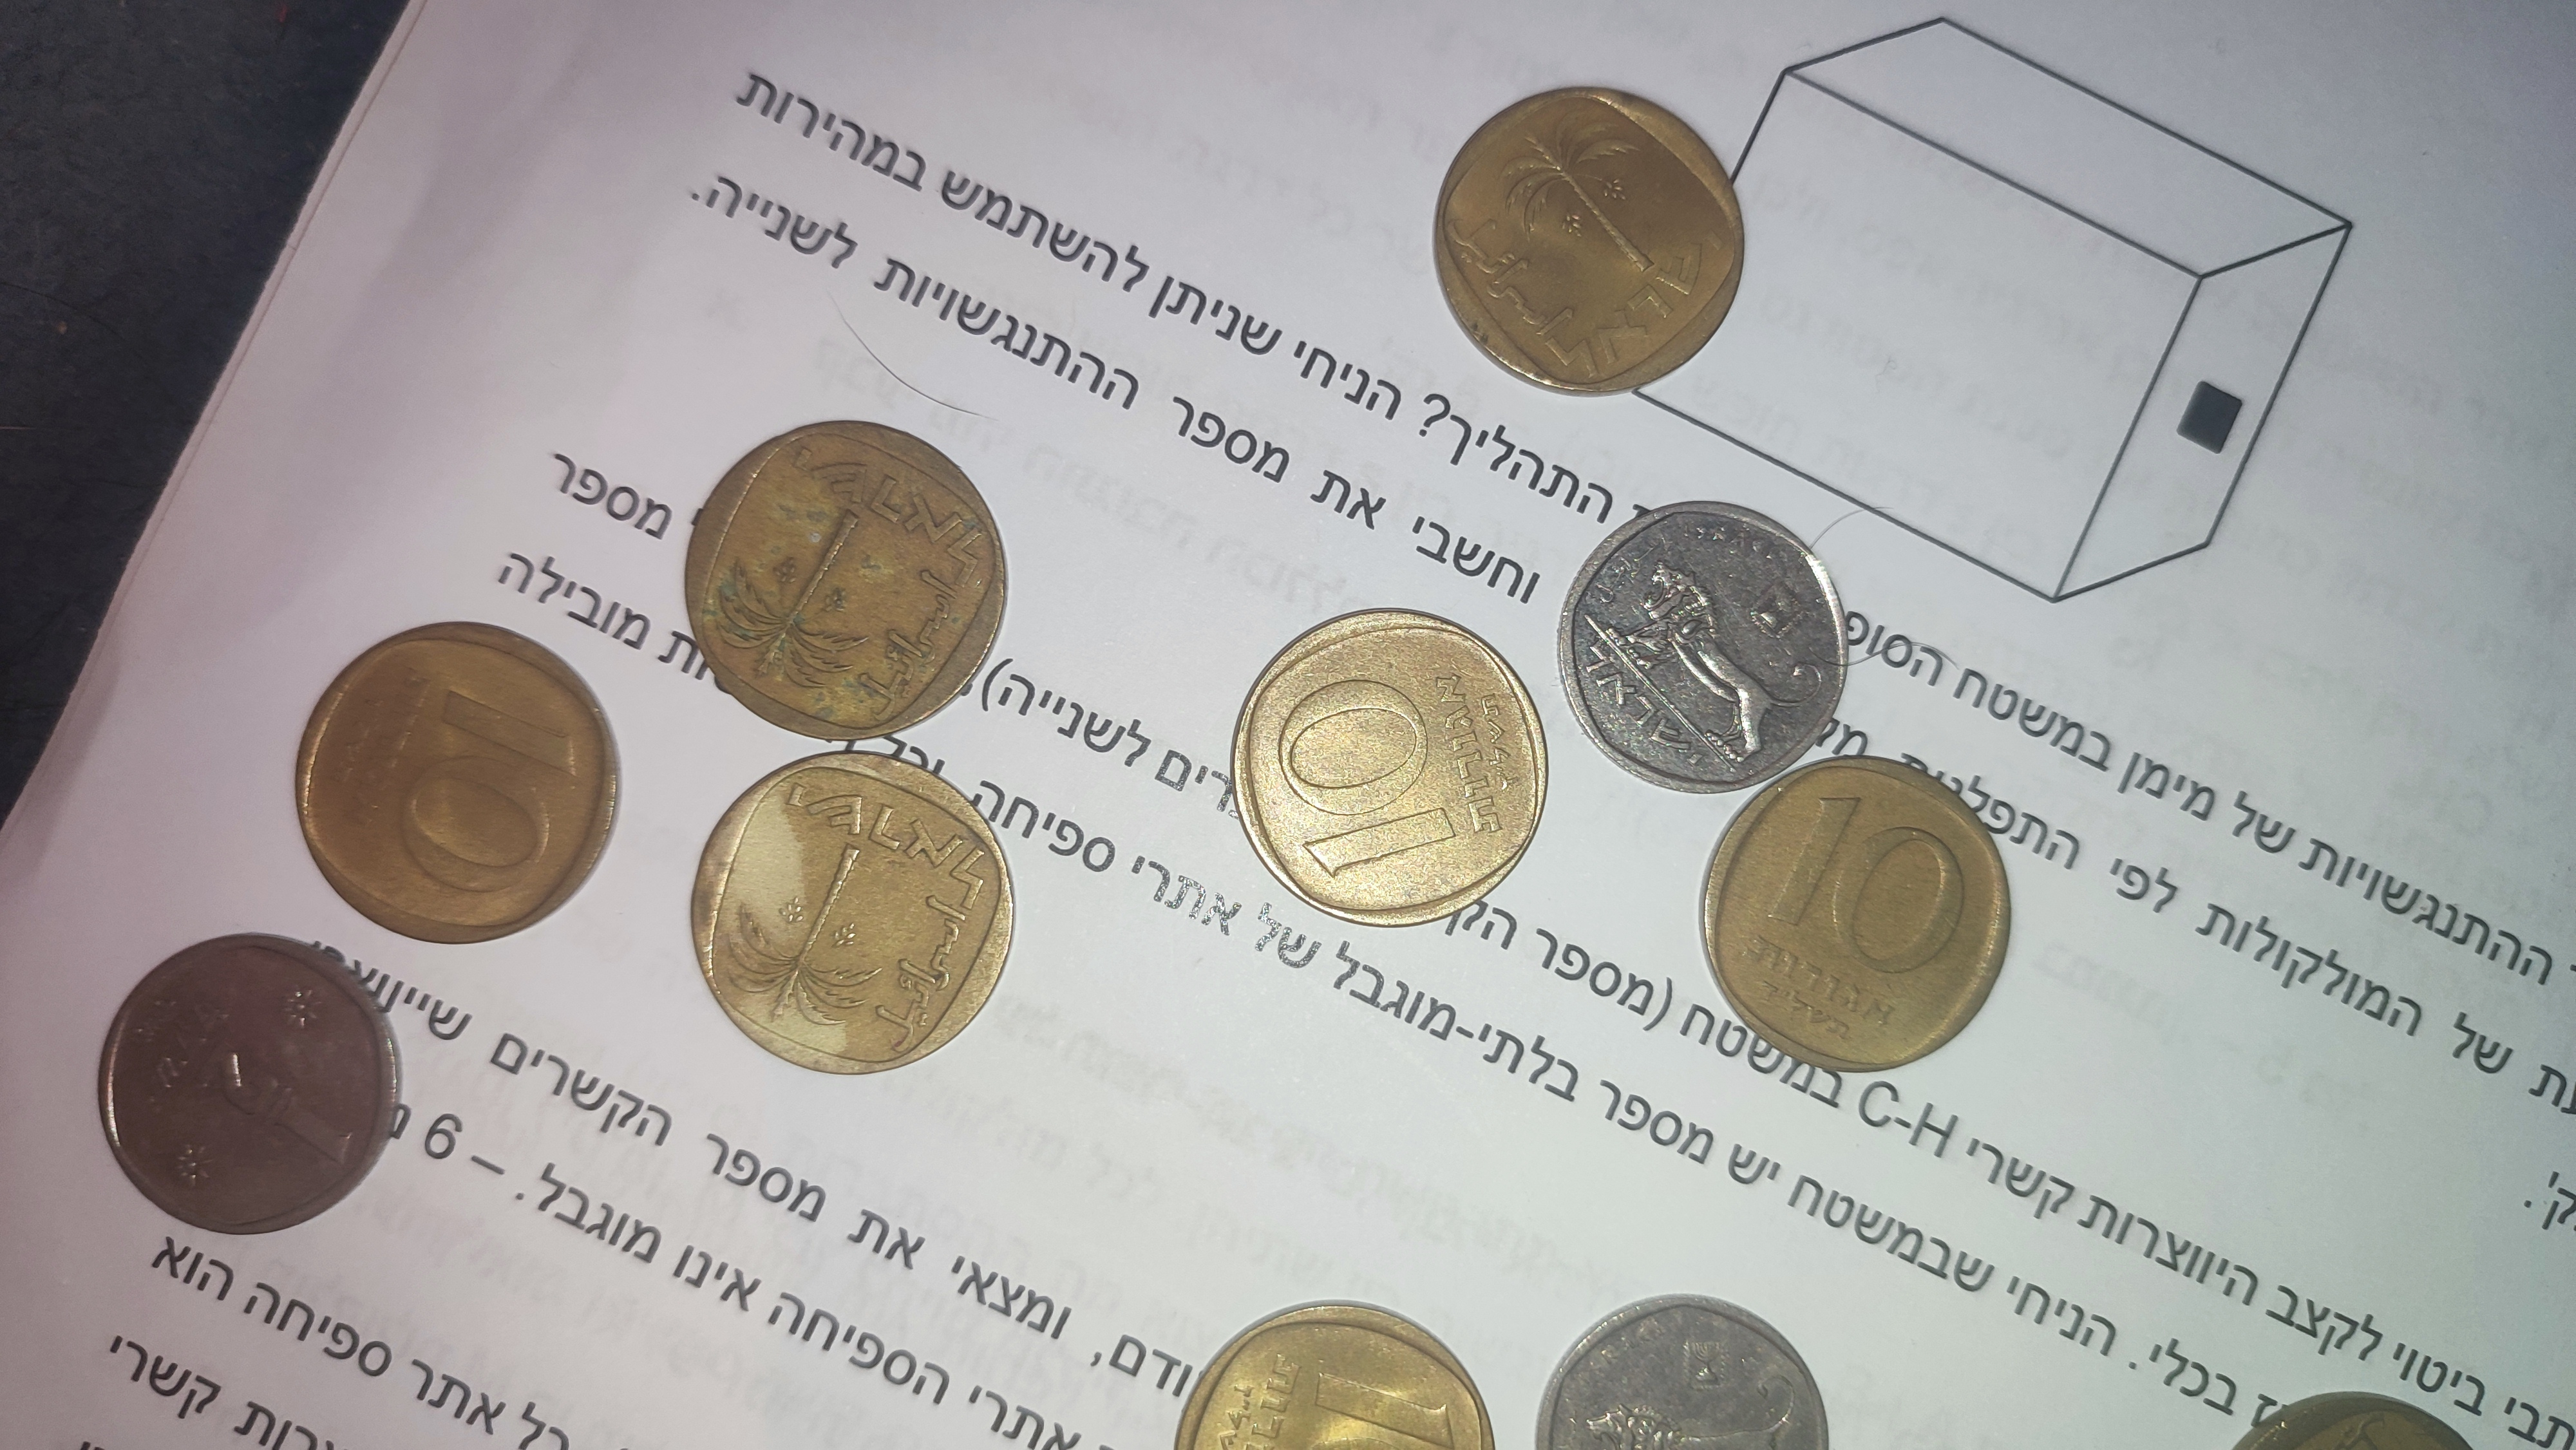1/2 old sheqel: (92, 930, 405, 1240), (1553, 497, 1851, 796), (1530, 1289, 1833, 1450)
10 old agora brown: (681, 748, 1019, 1080), (288, 617, 628, 948), (681, 414, 1010, 744), (1690, 752, 2015, 1080), (1226, 603, 1548, 928), (1430, 81, 1750, 403), (1166, 1296, 1502, 1450)
